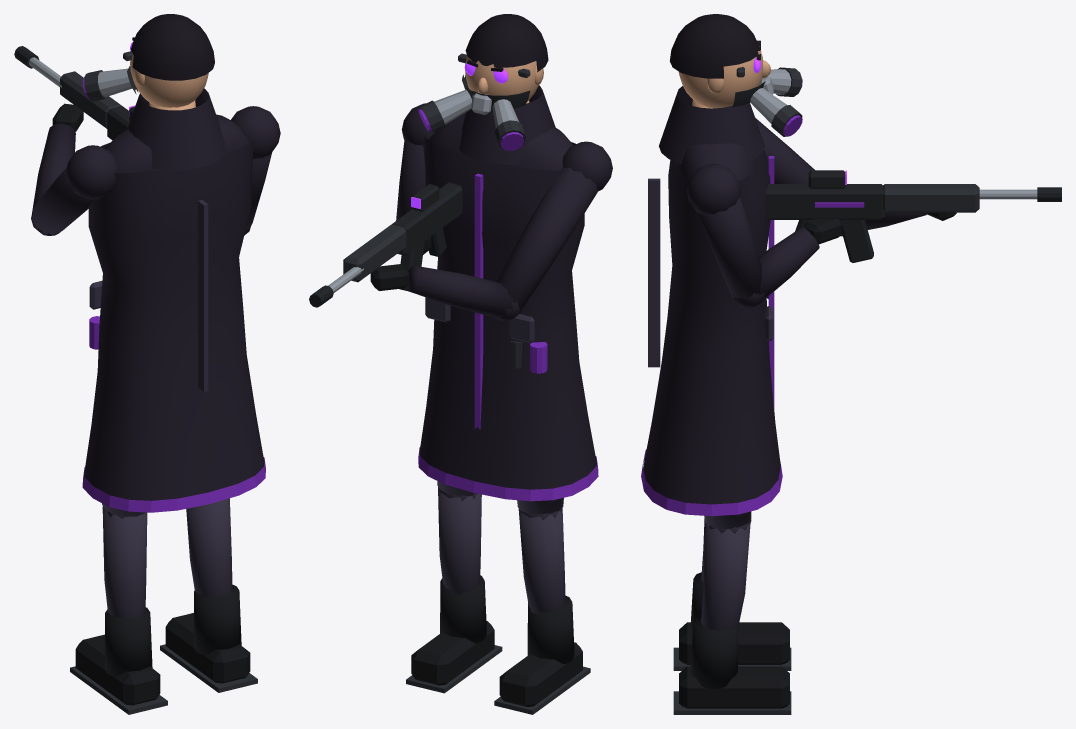
Rendered from vortex.glb.
The picture shows the model from 3 angles, left to right: view 1: azimuth 30°, elevation 25°; view 2: azimuth 150°, elevation 25°; view 3: azimuth 270°, elevation 25°; orthographic projection.
Visible parts, largest first — view 1: Vortex_Body; view 2: Vortex_Body; view 3: Vortex_Body.
Part boxes in pixels (<box>): Vortex_Body: <box>14,14,280,714</box>; Vortex_Body: <box>309,14,612,714</box>; Vortex_Body: <box>641,14,1061,714</box>.
Size of what is drawn, in the model's own units: 0.5868 by 1.8 by 1.03.
Materials: 1 (1 with a texture image).
